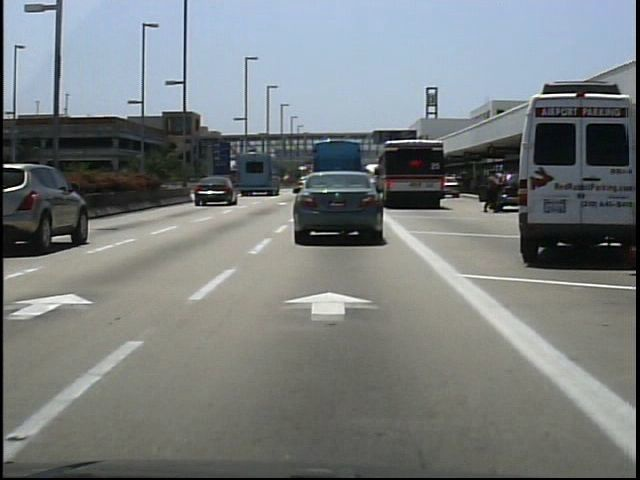person: (483, 169, 504, 219)
